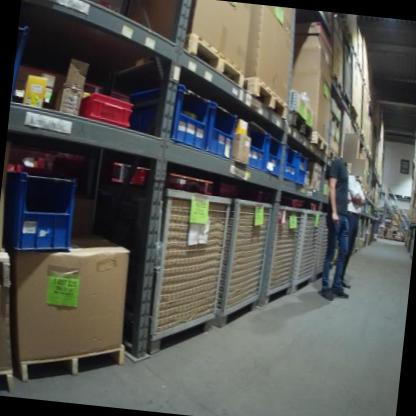pallet: (19, 336, 127, 392), (179, 30, 249, 89), (241, 73, 292, 120), (287, 110, 314, 141), (309, 128, 331, 155), (0, 366, 18, 397), (392, 236, 401, 243), (383, 235, 393, 241), (375, 234, 384, 240)
small_load_carrier: (0, 167, 84, 260), (121, 80, 211, 151), (200, 99, 238, 160), (80, 93, 137, 128), (11, 21, 32, 102), (241, 119, 267, 171), (261, 129, 282, 177), (279, 138, 298, 186), (292, 149, 309, 188)
stillage: (127, 185, 229, 364), (214, 194, 271, 332), (259, 198, 307, 304), (297, 208, 324, 298), (308, 210, 330, 278)
